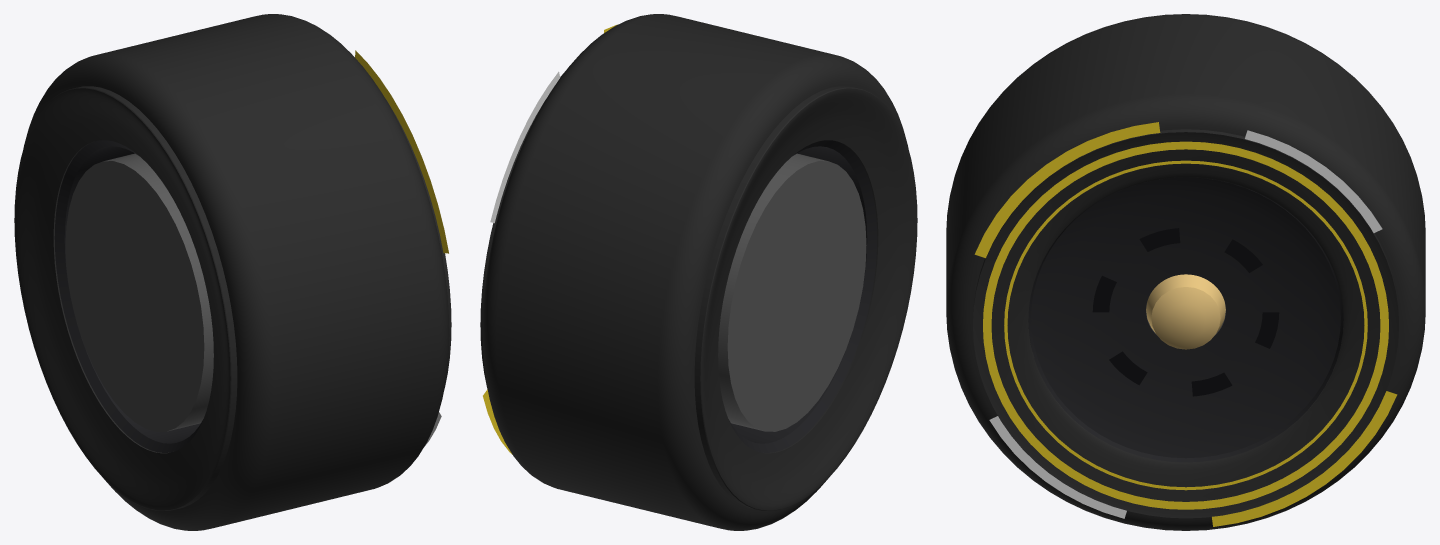
The model's file is f1_2026_wheel_rear.glb.
3 renders of one model, left to right at view 1: azimuth 30°, elevation 25°; view 2: azimuth 150°, elevation 25°; view 3: azimuth 270°, elevation 25°, orthographic.
Visible parts, largest first — view 1: wheel_rear_Tyre, wheel_rear_Brake, wheel_rear_Rim, wheel_rear_TyreStripe; view 2: wheel_rear_Tyre, wheel_rear_Brake, wheel_rear_Rim, wheel_rear_TyreText; view 3: wheel_rear_Tyre, wheel_rear_Rim, wheel_rear_TyreStripe, wheel_rear_RimGold, wheel_rear_Inlet, wheel_rear_TyreText.
Part boxes in pixels (left/top/right/bottom): wheel_rear_Tyre: left=14, top=14, right=451, bottom=530; wheel_rear_Brake: left=65, top=153, right=213, bottom=431; wheel_rear_Rim: left=54, top=140, right=203, bottom=452; wheel_rear_TyreStripe: left=355, top=50, right=448, bottom=253; wheel_rear_Tyre: left=480, top=14, right=917, bottom=530; wheel_rear_Brake: left=718, top=153, right=866, bottom=431; wheel_rear_Rim: left=728, top=140, right=877, bottom=452; wheel_rear_TyreText: left=490, top=71, right=559, bottom=223; wheel_rear_Tyre: left=946, top=14, right=1425, bottom=530; wheel_rear_Rim: left=1028, top=177, right=1343, bottom=462; wheel_rear_TyreStripe: left=974, top=122, right=1397, bottom=526; wheel_rear_RimGold: left=1146, top=274, right=1225, bottom=349; wheel_rear_Inlet: left=1092, top=228, right=1279, bottom=396; wheel_rear_TyreText: left=989, top=130, right=1382, bottom=518.
Bounding box in the file's own units: 0.378 × 0.72 × 0.72.
